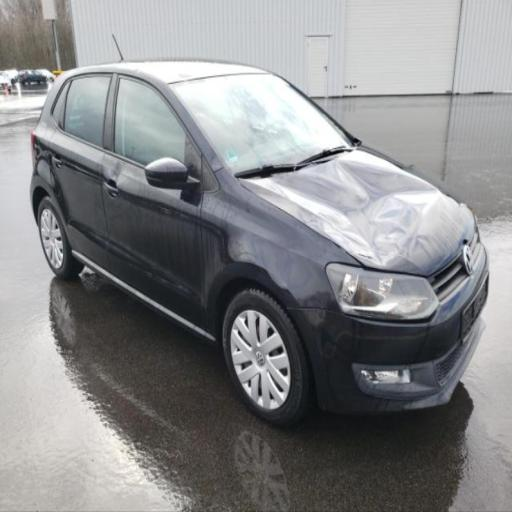dent: (290, 166, 443, 271)
